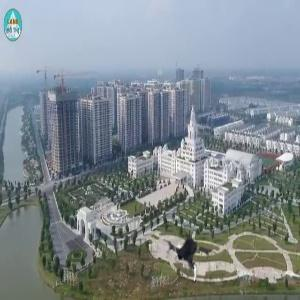drone: (154, 226, 221, 293)
